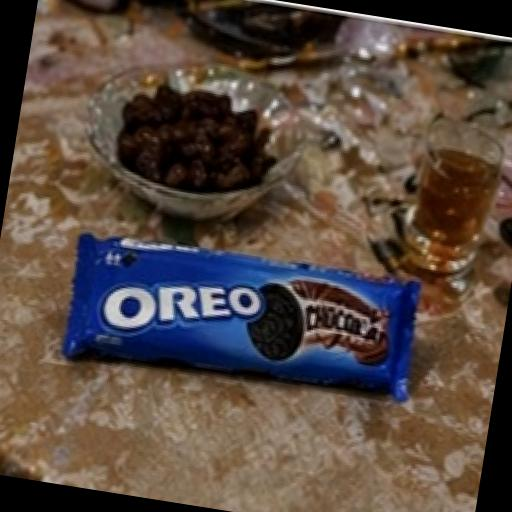oreo: (1, 141, 484, 460)
